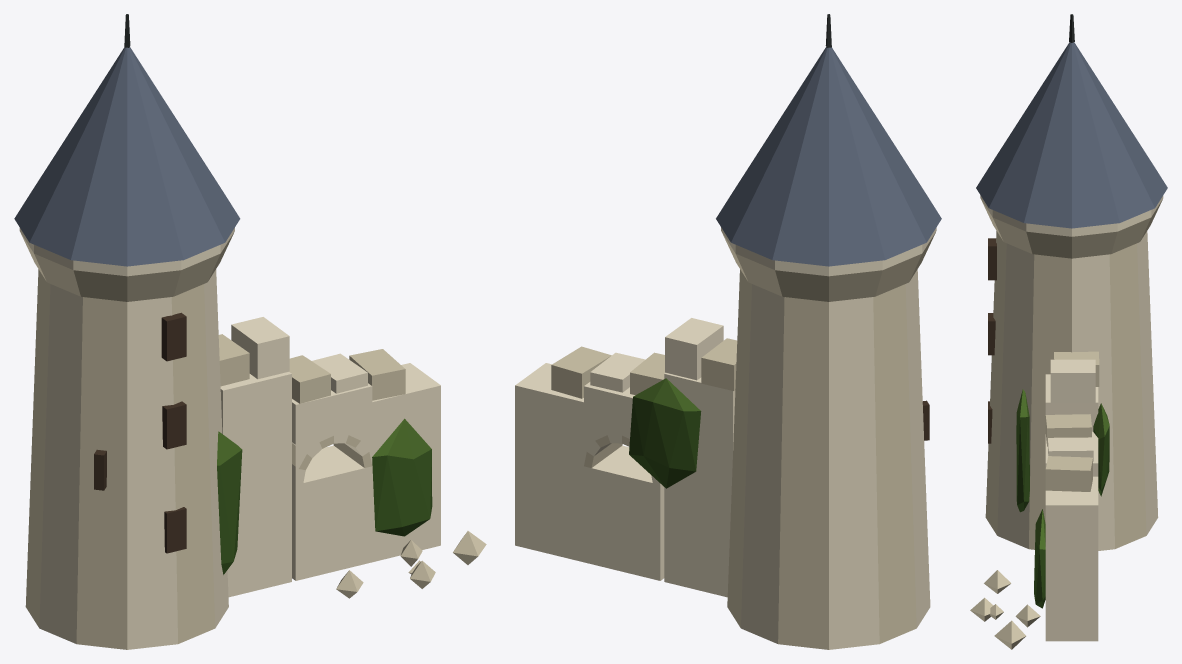
The model's file is chateau_tower.glb.
3 renders of one model, left to right at view 1: azimuth 30°, elevation 25°; view 2: azimuth 150°, elevation 25°; view 3: azimuth 270°, elevation 25°, orthographic. The views are drawn at different scales.
Parts seen in each view (by area): view 1: chateau_tower2; view 2: chateau_tower2; view 3: chateau_tower2.
Part boxes in pixels (x1,y1,x2,y2): chateau_tower2: (14, 14, 486, 649); chateau_tower2: (515, 14, 941, 649); chateau_tower2: (970, 14, 1167, 649).
Bounding box in the file's own units: 7.17 × 9.73 × 3.43.
